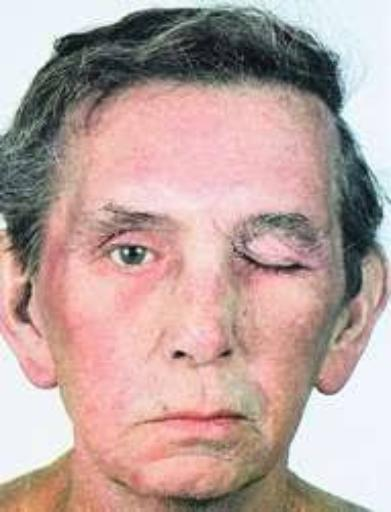left_eye: (239, 244, 304, 279), (134, 414, 157, 435)
left_lip_corner: (233, 405, 254, 430)
right_eye: (97, 242, 169, 277)
